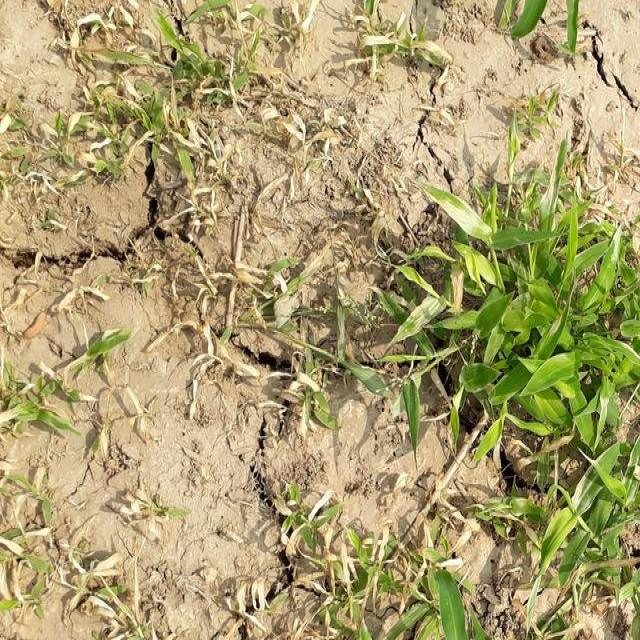weed: (392, 158, 640, 605)
